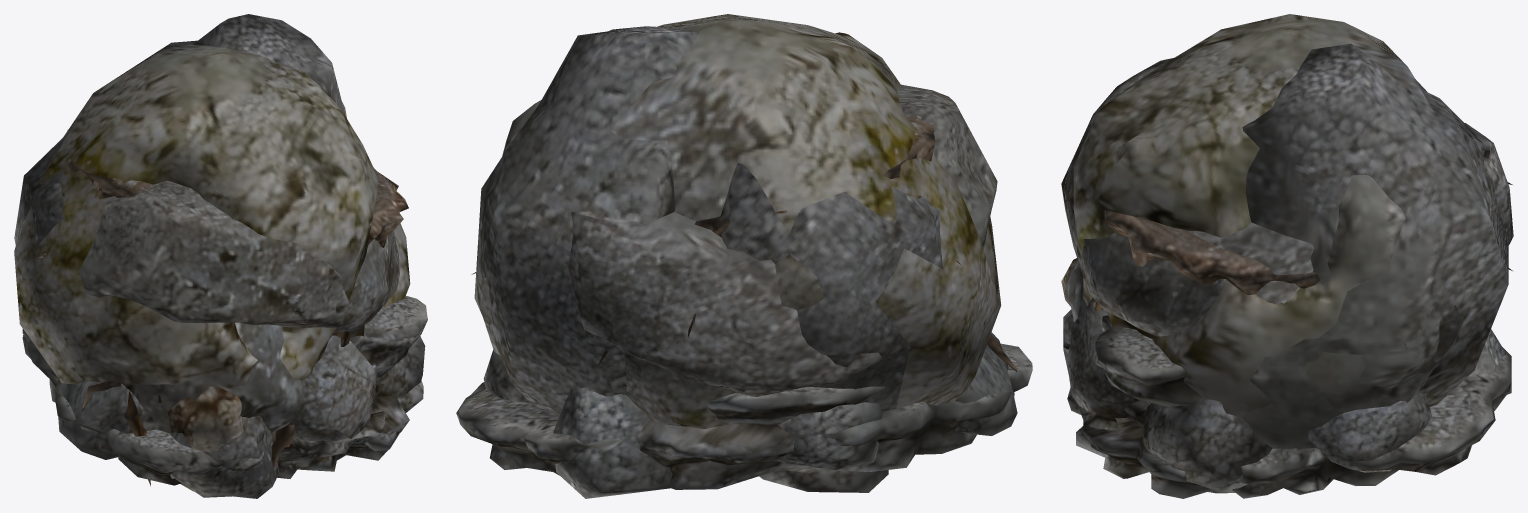
The picture shows the model from 3 angles, left to right: view 1: azimuth 30°, elevation 25°; view 2: azimuth 150°, elevation 25°; view 3: azimuth 270°, elevation 25°; orthographic projection. The views are drawn at different scales.
Parts seen in each view (by area): view 1: moss-rock, overhang-rock, talus-fan, granite-split, slate-shelf, root-earth-bank; view 2: moss-rock, granite-split, overhang-rock, slate-shelf, talus-fan, root-earth-bank; view 3: granite-split, moss-rock, slate-shelf, talus-fan, overhang-rock, root-earth-bank.
Part boxes in pixels (x1=…): moss-rock: x1=14, y1=40, x2=410, y2=437; overhang-rock: x1=79, y1=168, x2=399, y2=332; talus-fan: x1=22, y1=335, x2=425, y2=498; granite-split: x1=14, y1=14, x2=345, y2=433; slate-shelf: x1=22, y1=296, x2=427, y2=485; root-earth-bank: x1=38, y1=130, x2=408, y2=491; moss-rock: x1=479, y1=14, x2=1001, y2=473; granite-split: x1=474, y1=26, x2=966, y2=413; overhang-rock: x1=568, y1=84, x2=997, y2=492; slate-shelf: x1=456, y1=343, x2=1032, y2=489; talus-fan: x1=483, y1=332, x2=1017, y2=498; root-earth-bank: x1=471, y1=116, x2=1016, y2=371; granite-split: x1=1066, y1=43, x2=1508, y2=449; moss-rock: x1=1073, y1=14, x2=1462, y2=417; slate-shelf: x1=1063, y1=310, x2=1511, y2=498; talus-fan: x1=1063, y1=297, x2=1506, y2=491; overhang-rock: x1=1061, y1=58, x2=1513, y2=493; root-earth-bank: x1=1061, y1=182, x2=1512, y2=347.
Bounding box in the file's own units: 1 × 0.9783 × 1.
1 material, 1 textured.
